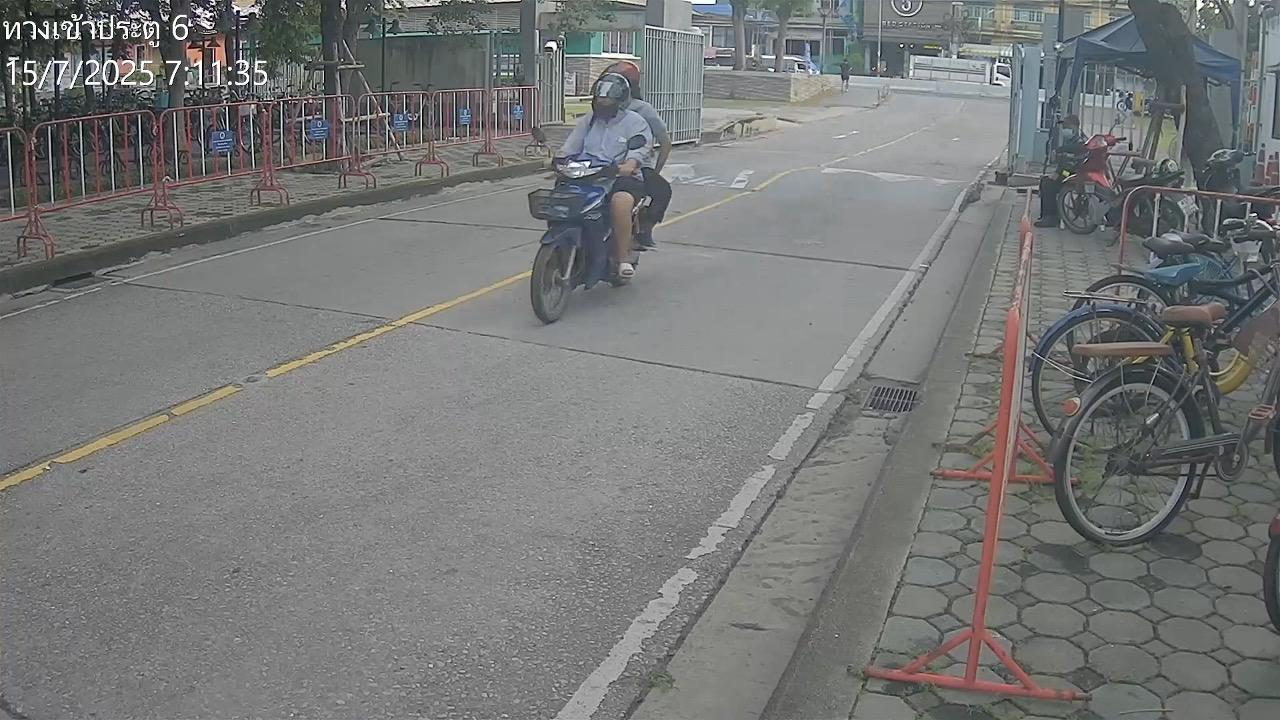With-Helmet: (591, 73, 628, 111), (627, 59, 646, 96)
